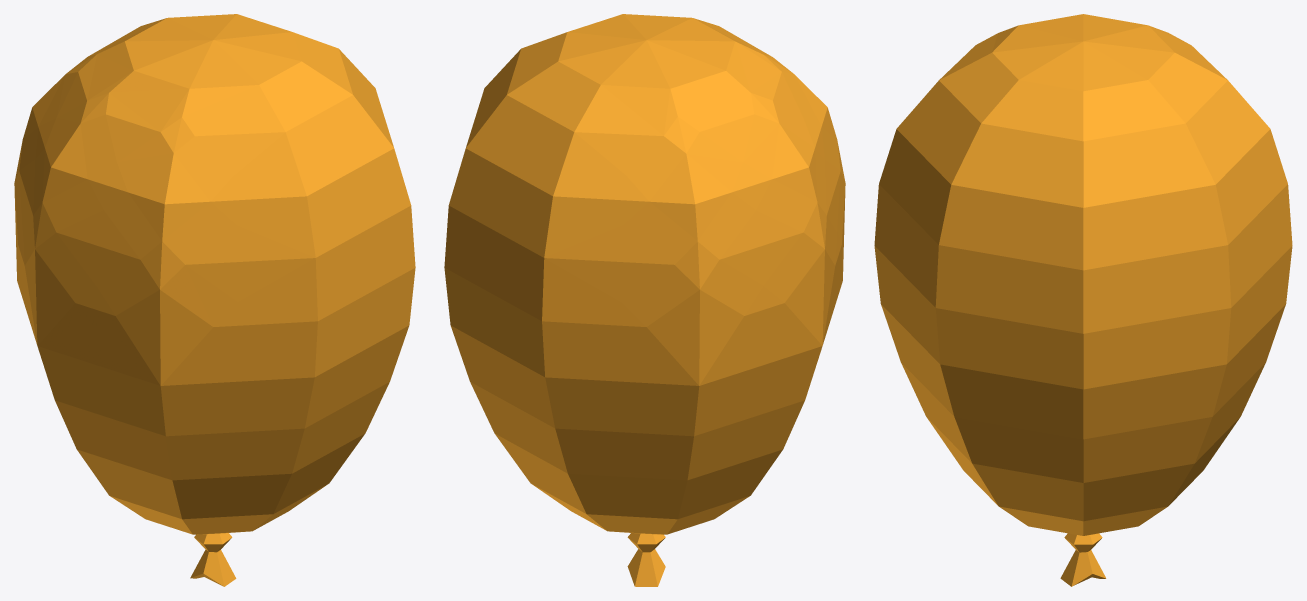
Rendered from SM_Balloon_Small_Flag_American.fbx.
The picture shows the model from 3 angles, left to right: view 1: azimuth 30°, elevation 25°; view 2: azimuth 150°, elevation 25°; view 3: azimuth 270°, elevation 25°; orthographic projection.
Visible parts, largest first — view 1: balloon-small-flag-american; view 2: balloon-small-flag-american; view 3: balloon-small-flag-american.
Part boxes in pixels (x1,y1,x2,y2): balloon-small-flag-american: [14, 14, 415, 586]; balloon-small-flag-american: [444, 14, 845, 586]; balloon-small-flag-american: [874, 14, 1292, 586].
Size of the model in its own units: 0.2642 by 0.3781 by 0.2665.
